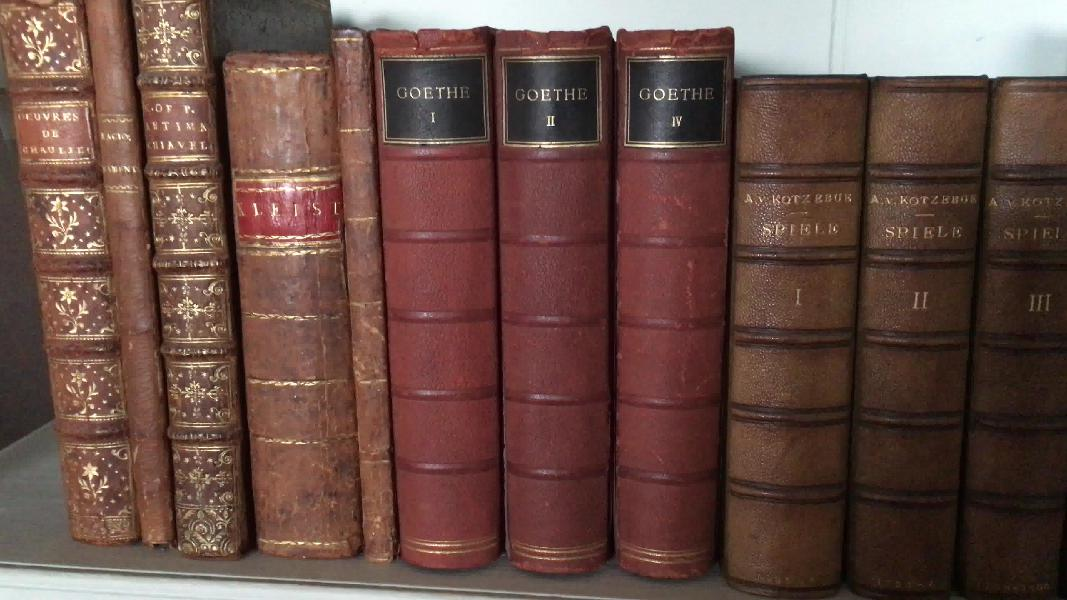Aa6-10: (317, 18, 421, 568)
Aa6-11_13: (365, 13, 733, 593)
Aa6-14_17: (734, 69, 1065, 600)
Aa6-6: (2, 6, 130, 543)
Aa6-7: (76, 2, 177, 552)
Aa6-8: (133, 2, 258, 558)
Aa6-9: (217, 48, 374, 564)
